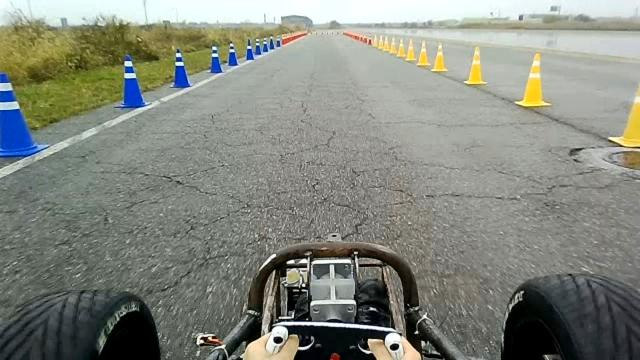blue cone: (0, 72, 50, 157), (114, 54, 151, 108), (169, 48, 192, 88), (207, 44, 224, 73), (227, 41, 239, 66), (244, 38, 254, 61), (254, 38, 262, 56), (268, 36, 275, 50), (262, 38, 269, 52), (276, 36, 282, 48)
yellow cone: (514, 52, 552, 108), (608, 85, 640, 148), (463, 45, 487, 85), (431, 41, 447, 72), (417, 40, 430, 66), (405, 38, 416, 62), (396, 38, 406, 57), (389, 37, 397, 55), (382, 36, 390, 52), (378, 34, 384, 50), (372, 34, 378, 48)
